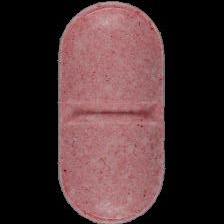33261-813: (0, 0, 224, 224)
